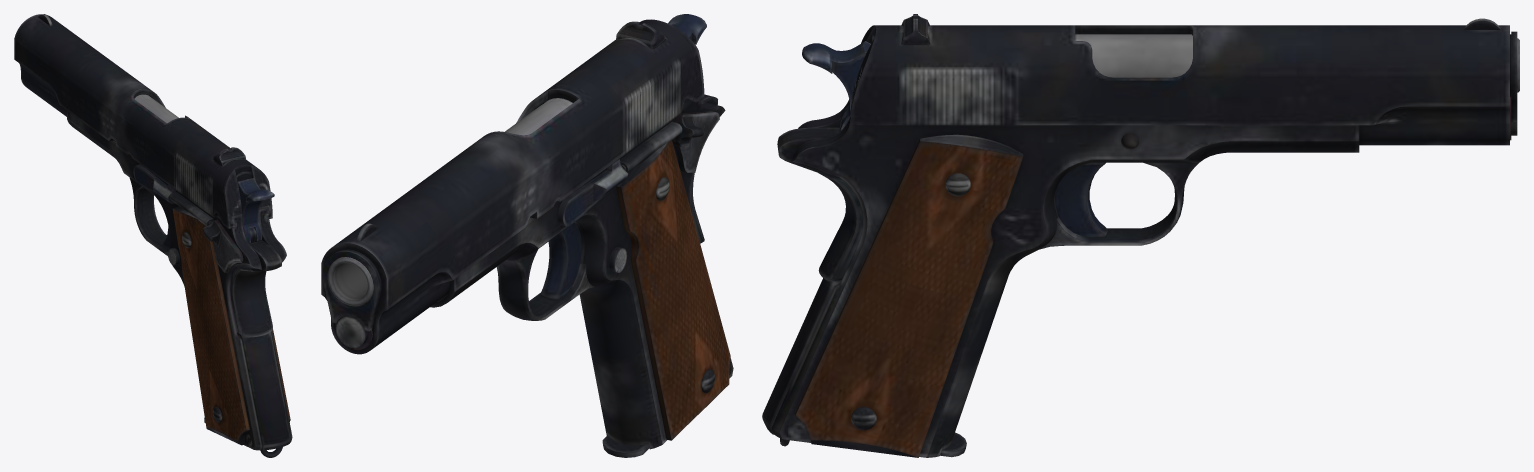
Rendered from m1911-glb.glb.
The picture shows the model from 3 angles, left to right: view 1: azimuth 30°, elevation 25°; view 2: azimuth 150°, elevation 25°; view 3: azimuth 270°, elevation 25°; orthographic projection. The views are drawn at different scales.
Visible parts, largest first — view 1: Frame, Slide, Hammer, SlideStop, Barrel; view 2: Slide, Frame, Barrel, Trigger, SlideStop, Hammer, Magazine; view 3: Frame, Slide, Barrel, Trigger, Hammer.
Boxes of the visible parts, <box> form: Frame: <box>67,111,292,457</box>; Slide: <box>14,14,272,228</box>; Hammer: <box>237,178,274,243</box>; SlideStop: <box>133,164,175,203</box>; Barrel: <box>134,94,178,123</box>; Slide: <box>321,19,704,354</box>; Frame: <box>430,94,733,449</box>; Barrel: <box>327,98,572,306</box>; Trigger: <box>540,223,581,299</box>; SlideStop: <box>558,159,628,226</box>; Hammer: <box>668,14,706,44</box>; Magazine: <box>602,435,649,457</box>; Frame: <box>762,99,1359,457</box>; Slide: <box>850,14,1517,145</box>; Barrel: <box>1075,34,1519,92</box>; Trigger: <box>1055,162,1107,237</box>; Hammer: <box>802,41,870,130</box>.
Size of the model in its own units: 0.0325 by 0.1362 by 0.2167.
Materials: 1 (1 with a texture image).
